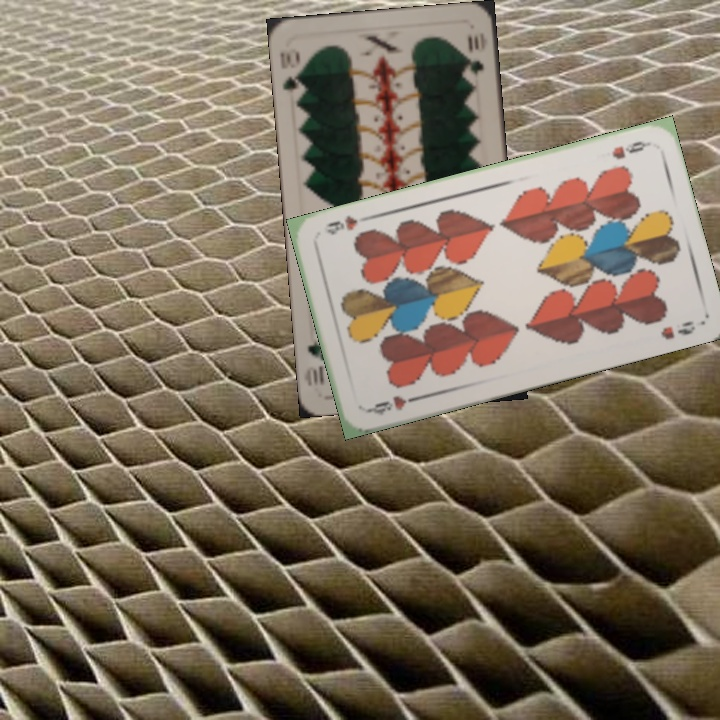G10: (276, 44, 307, 100)
H9: (363, 391, 421, 418), (607, 136, 653, 162)
